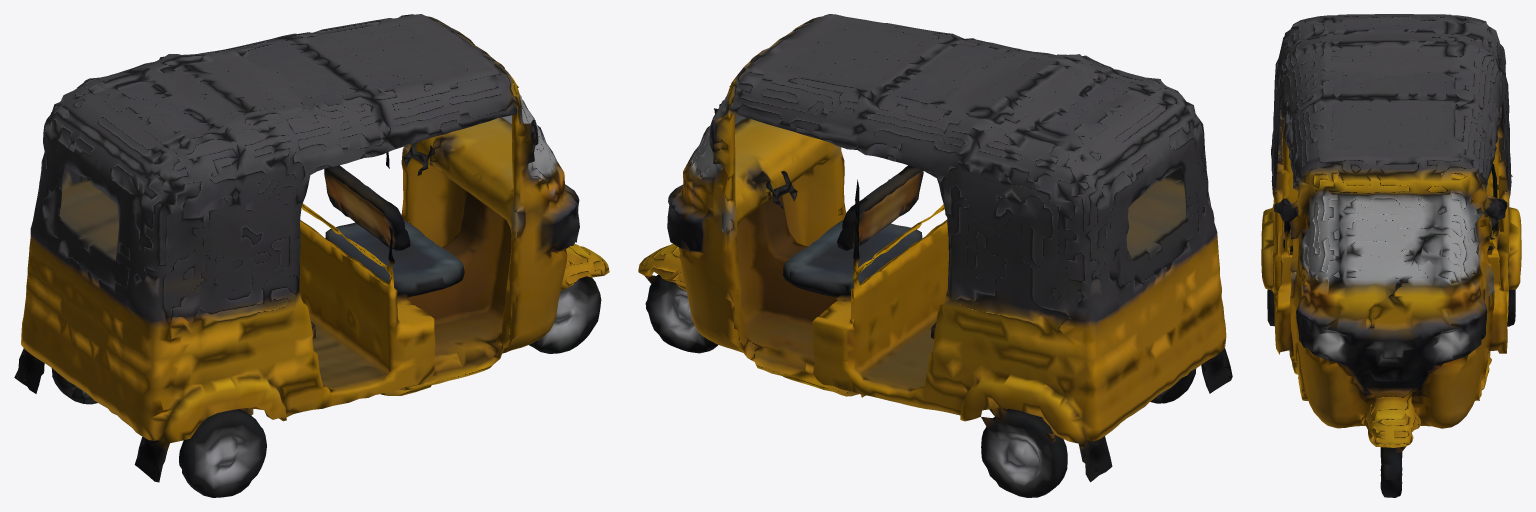
Rendered from keke_optimised.glb.
The picture shows the model from 3 angles, left to right: view 1: azimuth 30°, elevation 25°; view 2: azimuth 150°, elevation 25°; view 3: azimuth 270°, elevation 25°; orthographic projection. The views are drawn at different scales.
Size of the model in its own units: 0.9995 by 0.635 by 0.4907.
